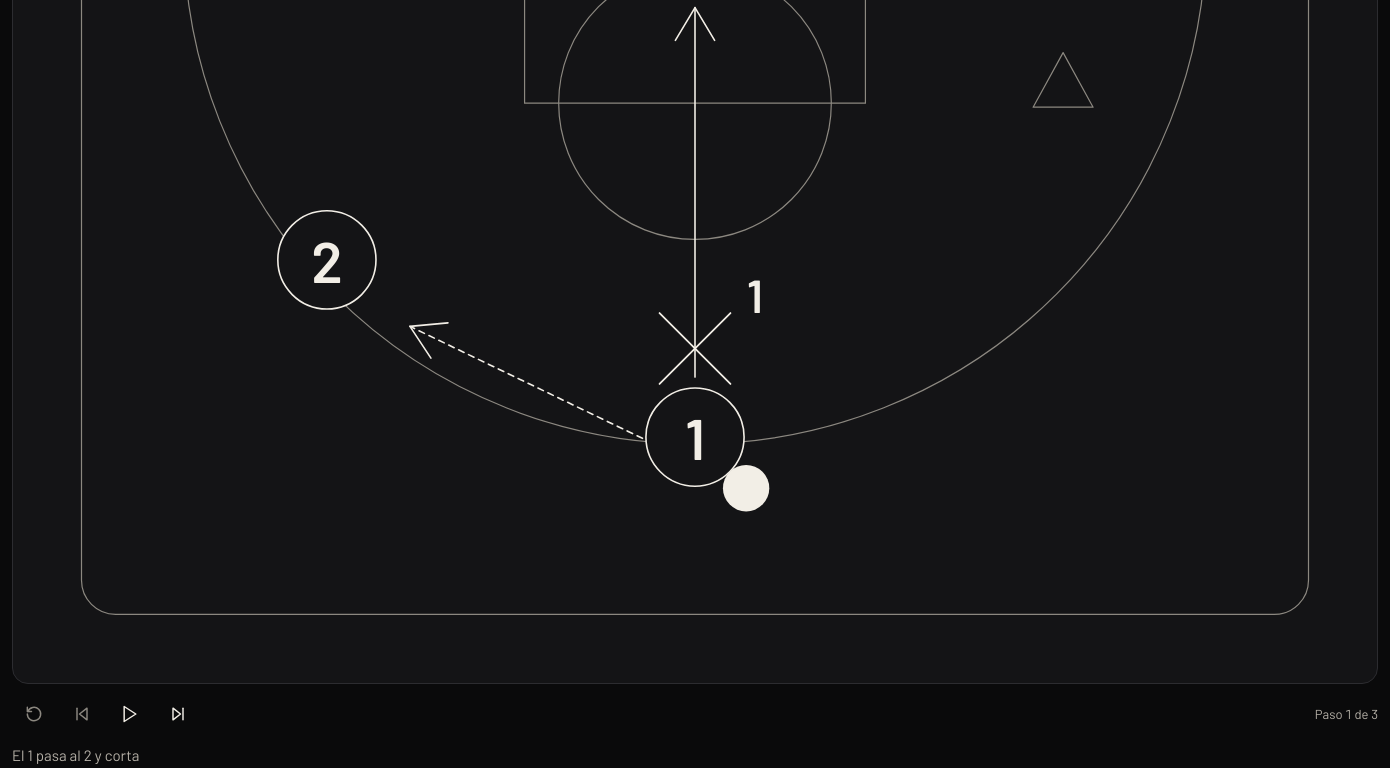
Scenario: Board, con pasos › «Paso siguiente» avanza sin animación: etiqueta, nota, movimientos y fichas
(page scrolled)
Click the button named "Paso siguiente" at [178, 714], box [156, 692, 200, 736]
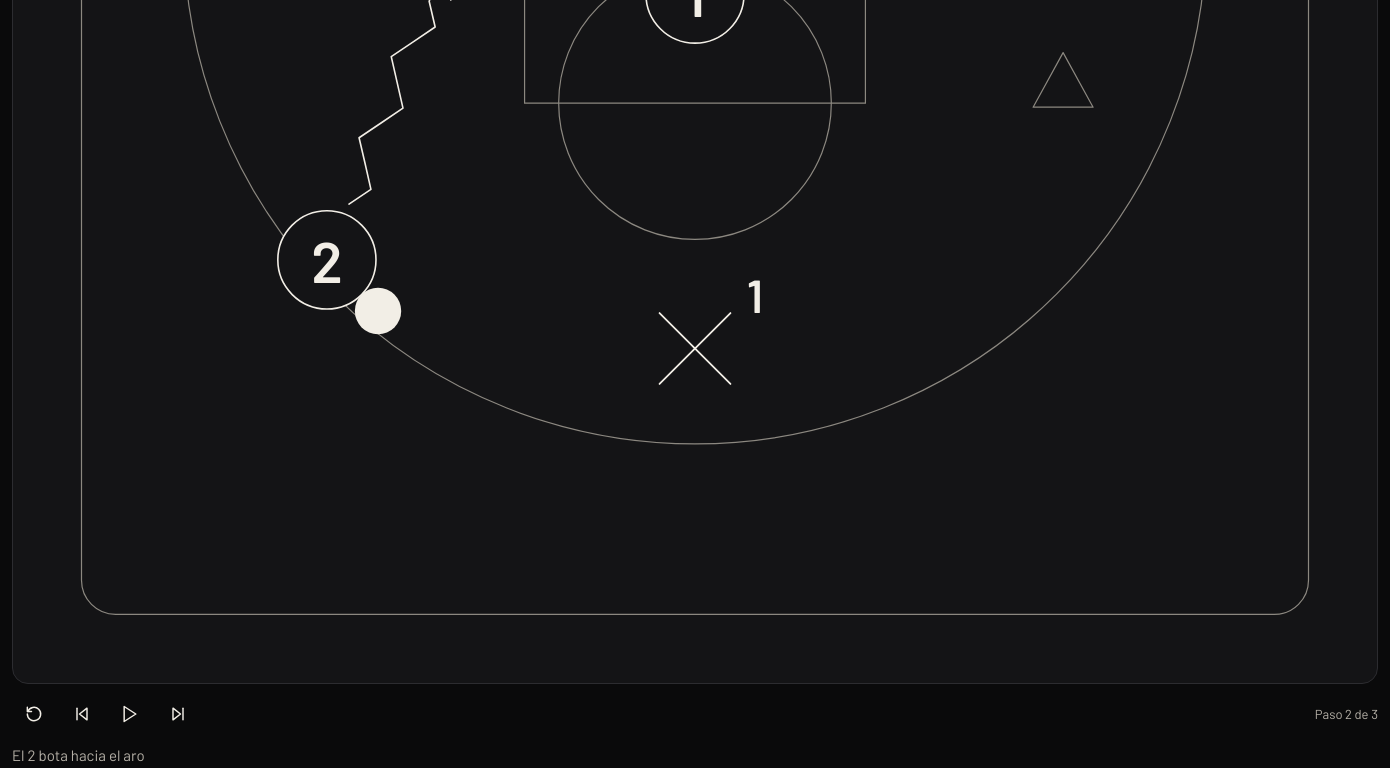
Now the text "Paso 2 de 3" is shown, box [1315, 704, 1378, 722]
Now the message "El 2 bota hacia el aro" is shown, box [12, 746, 145, 764]
